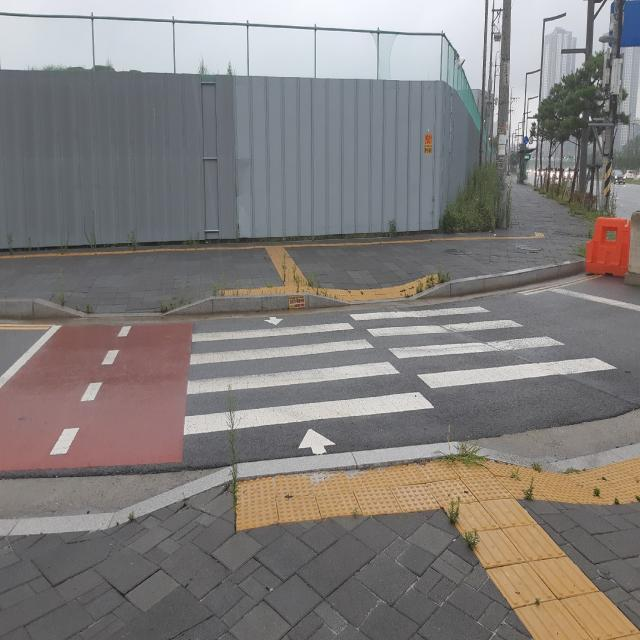횡단보도: (182, 306, 615, 456)
